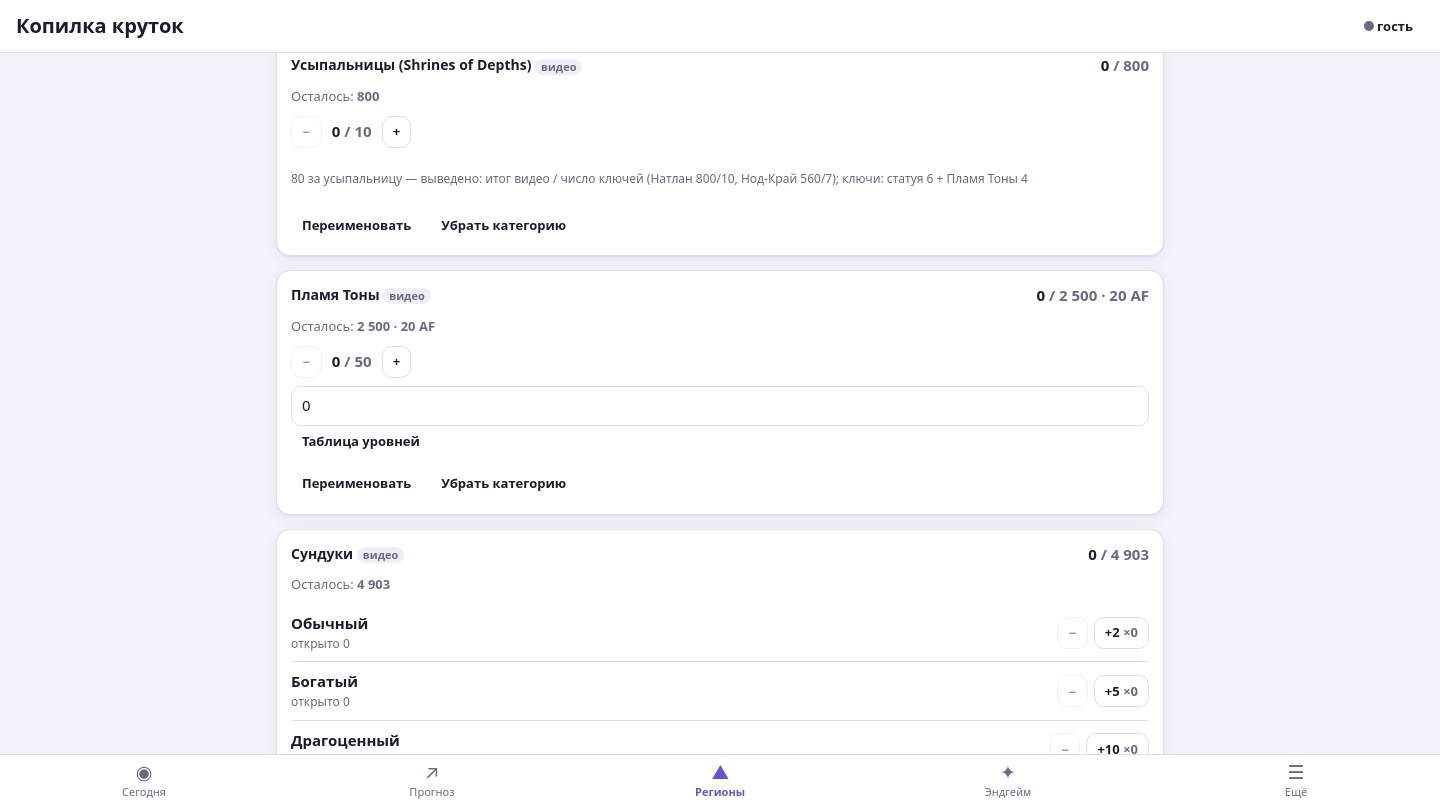
M5: регионы через интерфейс › TC-18: Пламя Тоны ур. 9 → 450 + 4 AF
(page scrolled)
Check: the heading "Копилка круток" is shown, box [16,12,184,39]
Step 1. Replace the text in the number field named "Пламя Тоны: уровень" with "9" → (720, 406), box [291,386,1149,426]
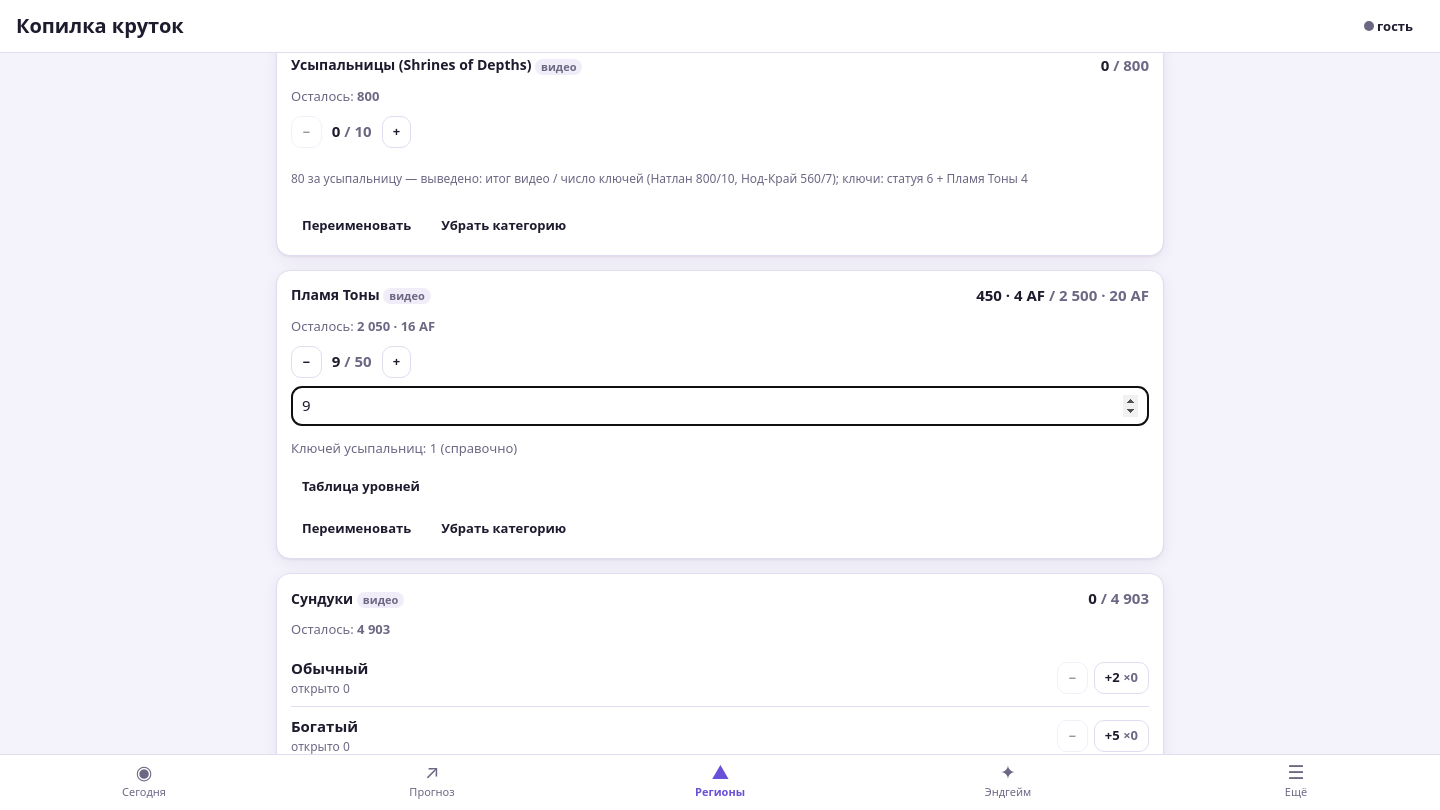
Check: the element with test id "collected-natlan_main:offering" shows "450 · 4 AF", box [976,285,1045,305]
